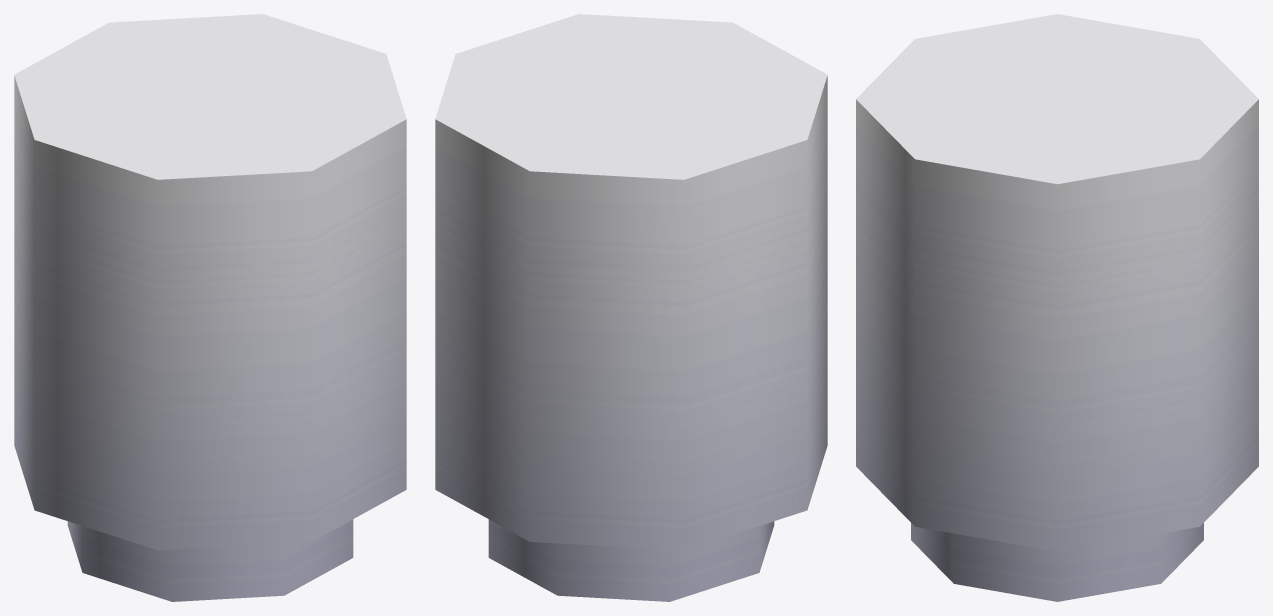
File: none-lq-brick-1x1-round.glb
The picture shows the model from 3 angles, left to right: view 1: azimuth 30°, elevation 25°; view 2: azimuth 150°, elevation 25°; view 3: azimuth 270°, elevation 25°; orthographic projection.
Visible parts, largest first — view 1: none-lq-brick-1x1-round; view 2: none-lq-brick-1x1-round; view 3: none-lq-brick-1x1-round.
Boxes of the visible parts, x1=… form: none-lq-brick-1x1-round: x1=14, y1=14, x2=406, y2=601; none-lq-brick-1x1-round: x1=435, y1=14, x2=827, y2=601; none-lq-brick-1x1-round: x1=856, y1=14, x2=1258, y2=601.
Bounding box in the file's own units: 0.3975 × 0.48 × 0.3975.
Materials: 1 (1 with a texture image).
